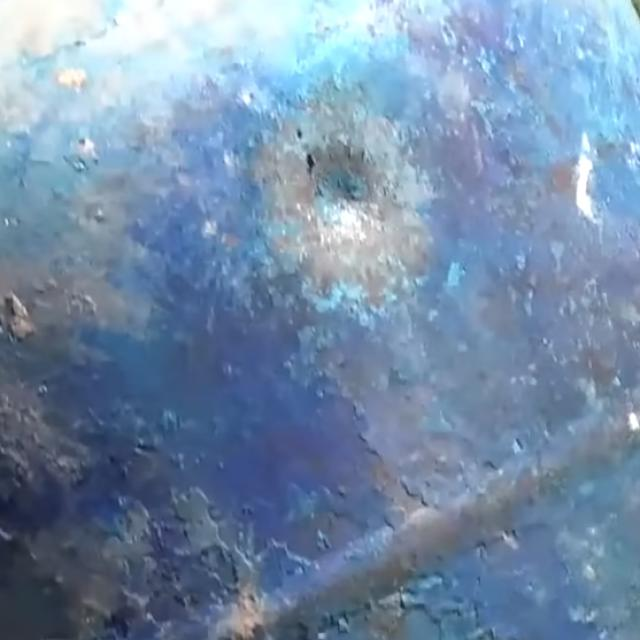bullets: (245, 100, 426, 291)
